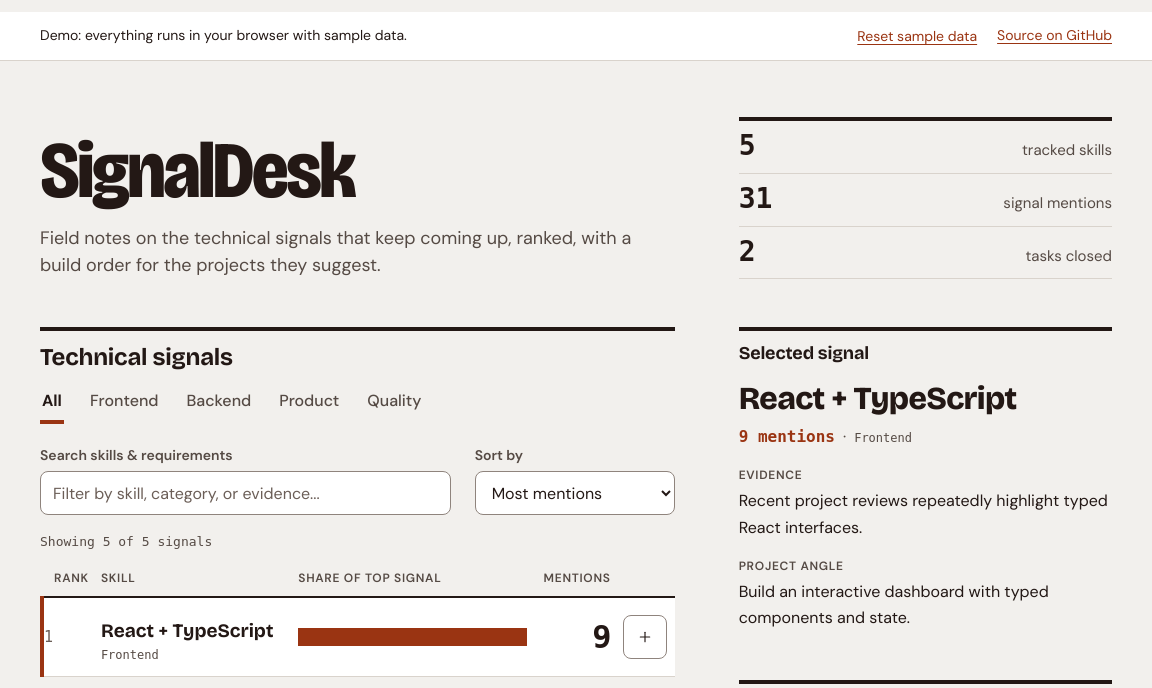
Test: SignalDesk › resets demo data back to default baseline
The image size is (1152, 688).
Click the button named "Add mention for React + TypeScript" at (645, 637), box [623,615,667,659]
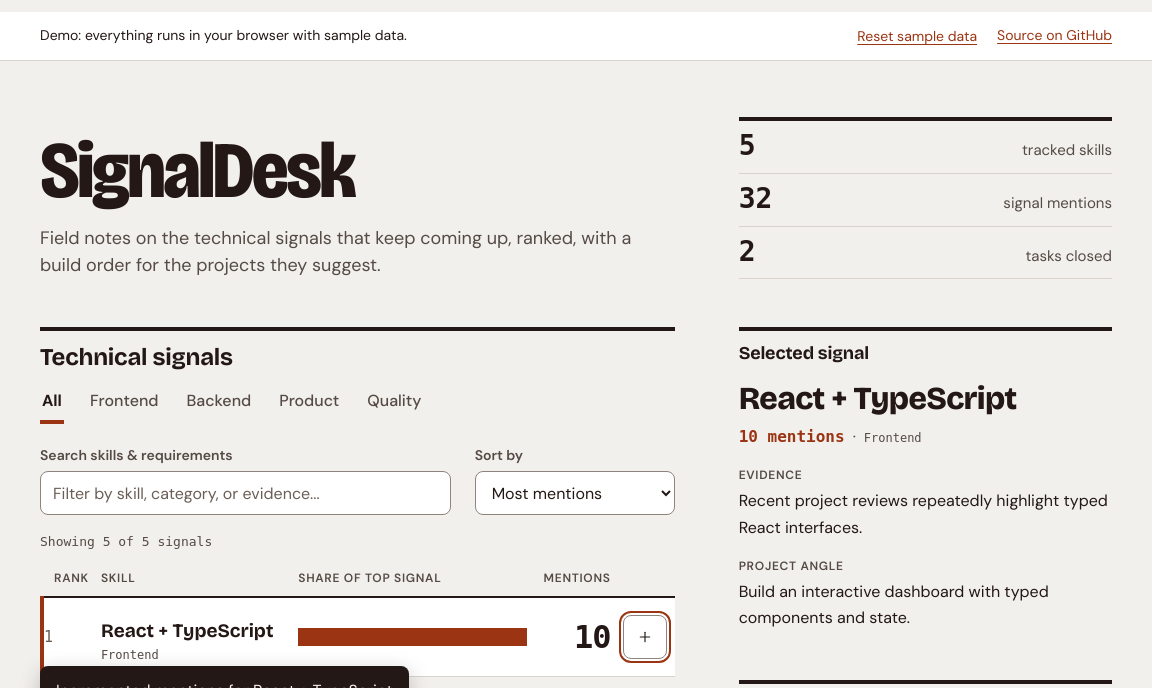
Check: the text "10 mentions" is shown, box [739,424,845,450]
Click reset in the demo bar
Click the button "Reset sample data" at (917, 36), box [857,14,977,58]
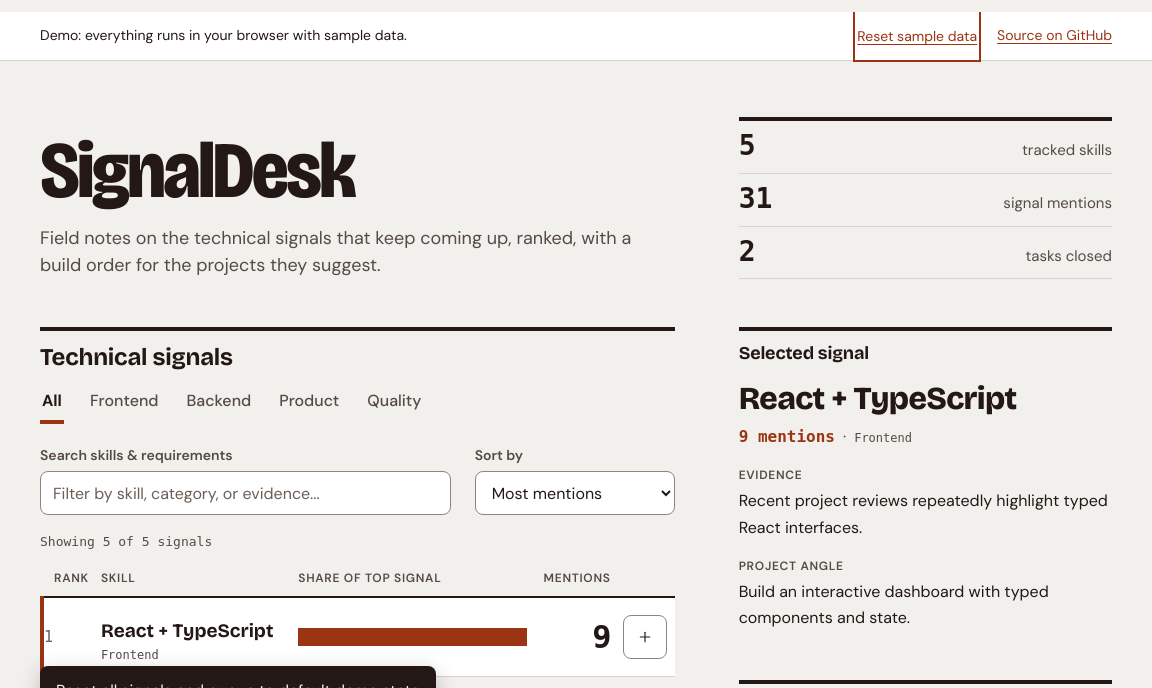
Check: the text "9 mentions" is shown, box [739,424,835,450]
